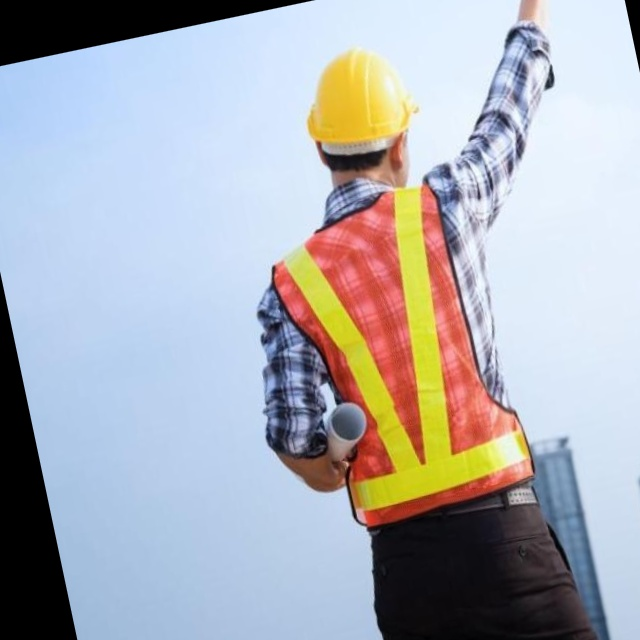Con_Casco: (294, 34, 433, 197)
Con_Chaleco: (259, 171, 542, 534)
